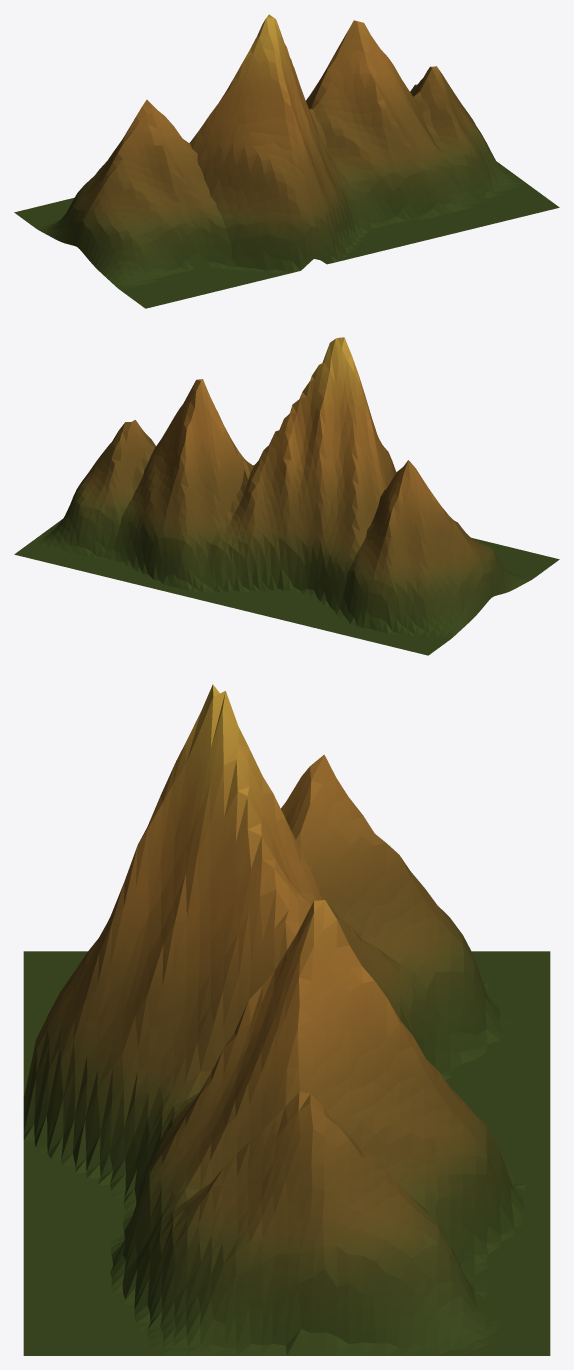
The model's file is Angular_Medium.fbx.
3 views of the same model, one above another, from view 1: azimuth 30°, elevation 25°; view 2: azimuth 150°, elevation 25°; view 3: azimuth 270°, elevation 25° (orthographic). The views are drawn at different scales.
Parts seen in each view (by area): view 1: Angular_Medium; view 2: Angular_Medium; view 3: Angular_Medium.
Boxes of the visible parts, <box> form: Angular_Medium: <box>14,14,559,308</box>; Angular_Medium: <box>14,337,559,655</box>; Angular_Medium: <box>23,684,550,1355</box>.
Bounding box in the file's own units: 2000 × 995 × 1100.
